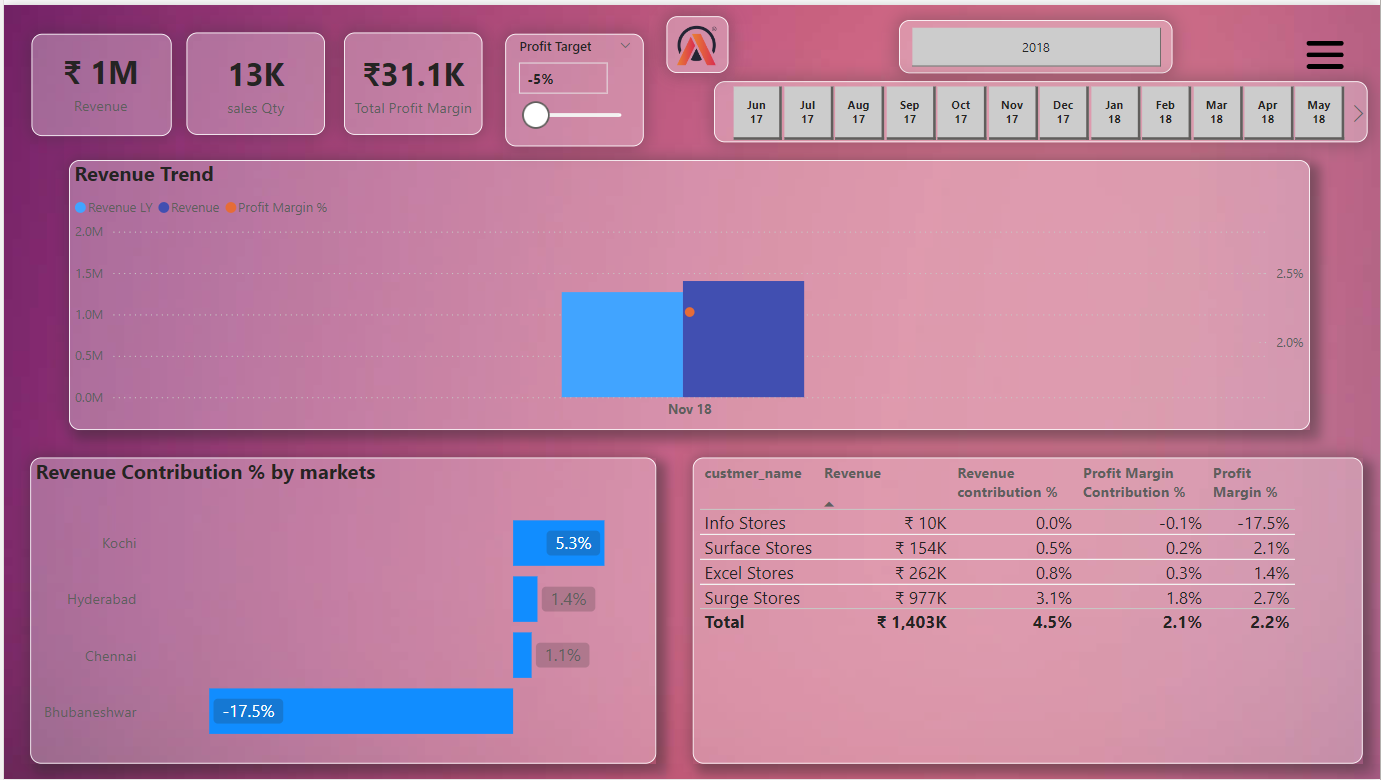

This screenshot's page, from the dashboard's own definition file:
{"tool":"powerbi","page":{"name":"Performance Insights","canvas":[1280,720],"ordinal":2},"visuals":[{"type":"image","box":[1207,24.4,44.2,44.2],"z":0},{"type":"shape","box":[25.3,26.5,130.3,95.3],"z":5000},{"type":"card","fields":{"Values":["Base Measures 2.Revenue"]},"box":[25.3,25.3,129,91.7],"z":6000},{"type":"shape","box":[24.1,420.9,582.5,284.6],"z":7000},{"type":"barChart","title":"Revenue Contribution % by markets","fields":{"Category":["sales markets.zone","sales markets.markets_name"],"Y":["Base Measures 2.Profit Margin %"]},"box":[24.1,420.9,582.5,284.6],"z":8000},{"type":"shape","box":[60.3,144.7,1154.2,250.9],"z":9000},{"type":"lineClusteredColumnComboChart","title":"Revenue Trend","fields":{"Category":["sales date.cy_date"],"Y":["Base Measures 2.Revenue LY","Base Measures 2.Revenue"],"Y2":["Base Measures 2.Profit Margin %"]},"box":[60.3,144.7,1154.2,250.9],"z":10000},{"type":"shape","box":[640.4,420.9,623.5,284.6],"z":11000},{"type":"tableEx","title":"Top 5 customer","fields":{"Values":["sales customers.custmer_name","Base Measures 2.Revenue","Base Measures 2.Revenue contribution %","Base Measures 2.Profit Margin Contribution %","Base Measures 2.Profit Margin %"]},"box":[640.4,420.9,623.5,284.6],"z":12000},{"type":"shape","box":[832.2,14.5,254.5,49.4],"z":13000},{"type":"slicer","fields":{"Values":["sales date.year"]},"box":[818.6,14,281.4,50],"z":14000},{"type":"shape","box":[660.9,71.2,607.8,56.7],"z":15000},{"type":"slicer","fields":{"Values":["sales date.cy_date"]},"box":[652.5,68.7,618.7,63.9],"z":16000},{"type":"shape","box":[170.1,25.3,129,95.3],"z":17000},{"type":"shape","box":[316,25.3,129,95.3],"z":18000},{"type":"shape","box":[466.7,26.5,129,104.9],"z":19000},{"type":"card","fields":{"Values":["Base Measures 2.sales Qty"]},"box":[170.1,25.3,129,95.3],"z":20000},{"type":"card","fields":{"Values":["Base Measures 2.Total Profit Margin"]},"box":[316,25.3,129,95.3],"z":21000},{"type":"slicer","fields":{"Values":["Profit Target.Profit Target"]},"box":[466.7,25.3,129,104.9],"z":22000},{"type":"shape","box":[616.3,10.9,57.9,53.1],"z":23000},{"type":"image","box":[617.5,14.5,54.3,47],"z":24000}]}

Visuals, with their boxes in screenshot pixels (x1, y1, x2, y2), scaled from the page's 1280x720 canvas onto the 1383x780 screenshot:
image: <bbox>1304, 26, 1352, 74</bbox>
shape: <bbox>27, 29, 168, 132</bbox>
card - Base Measures 2.Revenue: <bbox>27, 27, 167, 127</bbox>
shape: <bbox>26, 456, 655, 764</bbox>
"Revenue Contribution % by markets" barChart: <bbox>26, 456, 655, 764</bbox>
shape: <bbox>65, 157, 1312, 429</bbox>
"Revenue Trend" lineClusteredColumnComboChart: <bbox>65, 157, 1312, 429</bbox>
shape: <bbox>692, 456, 1366, 764</bbox>
"Top 5 customer" tableEx: <bbox>692, 456, 1366, 764</bbox>
shape: <bbox>899, 16, 1174, 69</bbox>
slicer - sales date.year: <bbox>884, 15, 1189, 69</bbox>
shape: <bbox>714, 77, 1371, 139</bbox>
slicer - sales date.cy_date: <bbox>705, 74, 1373, 144</bbox>
shape: <bbox>184, 27, 323, 131</bbox>
shape: <bbox>341, 27, 481, 131</bbox>
shape: <bbox>504, 29, 644, 142</bbox>
card - Base Measures 2.sales Qty: <bbox>184, 27, 323, 131</bbox>
card - Base Measures 2.Total Profit Margin: <bbox>341, 27, 481, 131</bbox>
slicer - Profit Target.Profit Target: <bbox>504, 27, 644, 141</bbox>
shape: <bbox>666, 12, 728, 69</bbox>
image: <bbox>667, 16, 726, 67</bbox>
